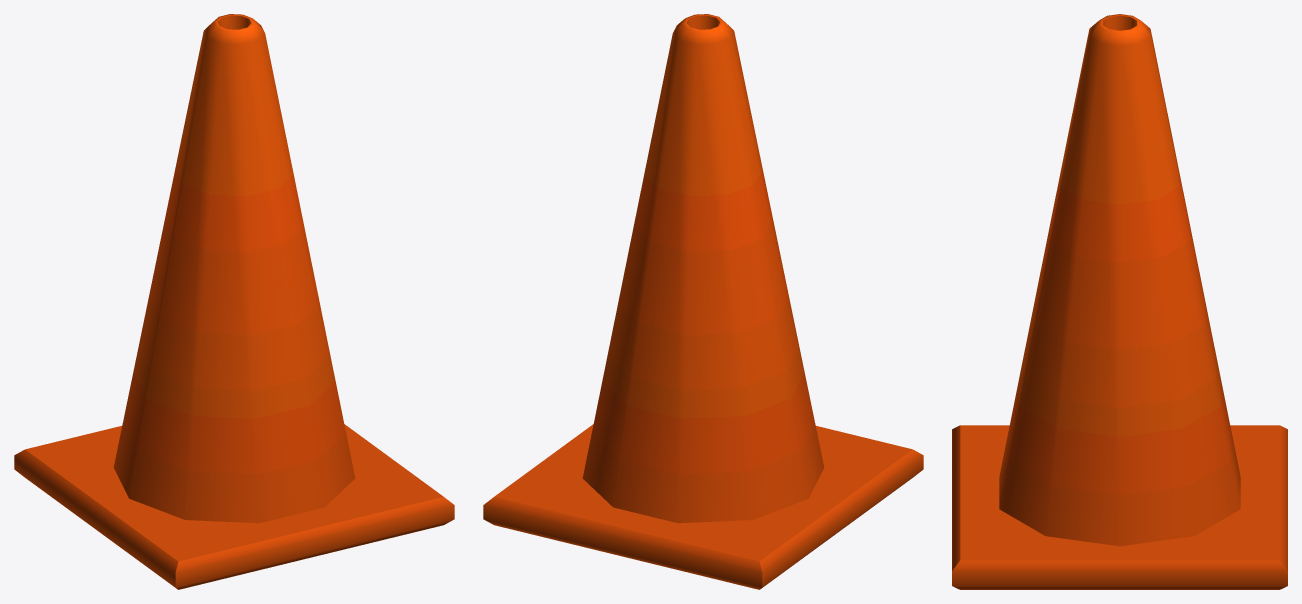
The model's file is SM_TrafficCone.fbx.
3 views of the same model, side by side, from view 1: azimuth 30°, elevation 25°; view 2: azimuth 150°, elevation 25°; view 3: azimuth 270°, elevation 25° (orthographic). The views are drawn at different scales.
Visible parts, largest first — view 1: SM_TrafficCone; view 2: SM_TrafficCone; view 3: SM_TrafficCone.
Boxes of the visible parts, box(x1,y1,x2,y2) form: SM_TrafficCone: box(14, 14, 454, 589); SM_TrafficCone: box(483, 14, 923, 589); SM_TrafficCone: box(952, 14, 1287, 589).
Size of the model in its own units: 39.28 by 64.4 by 39.28.
